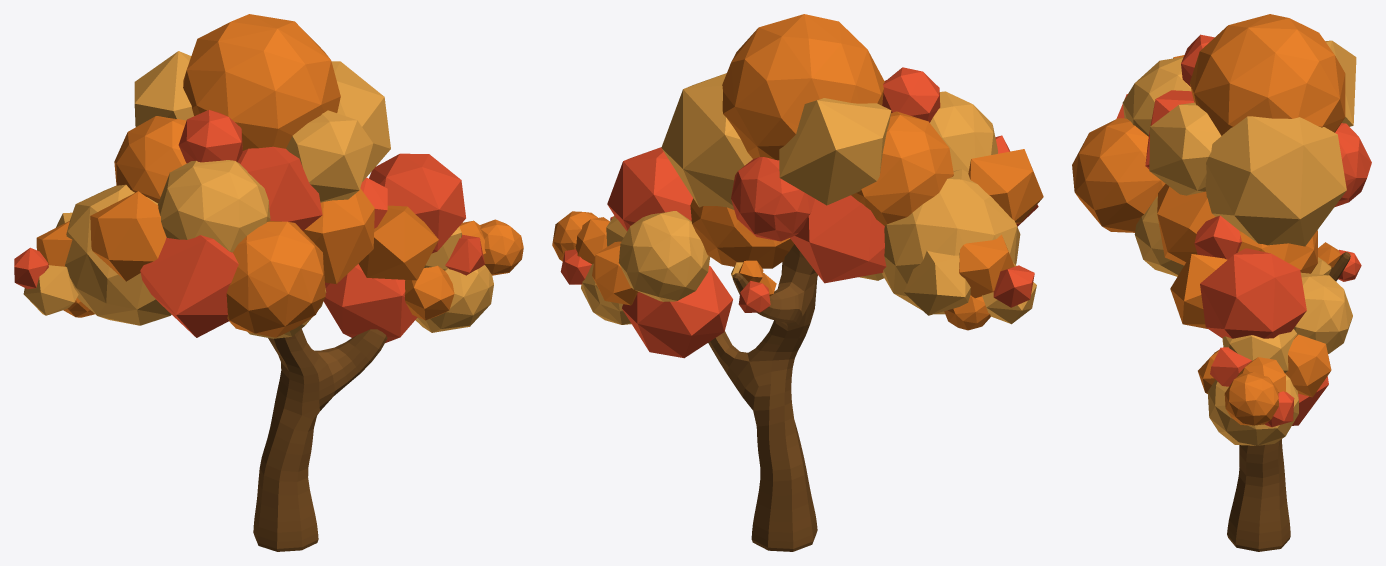
The model's file is Tree1.fbx.
3 renders of one model, left to right at view 1: azimuth 30°, elevation 25°; view 2: azimuth 150°, elevation 25°; view 3: azimuth 270°, elevation 25°, orthographic. The views are drawn at different scales.
Visible parts, largest first — view 1: Sphere.003, Plane, Sphere.035, Sphere.008, Sphere.036, Sphere.004, Sphere.037, Sphere.028, Sphere.006, Sphere.001, Sphere.009, Sphere.027 (+14 smaller); view 2: Plane, Sphere.003, Sphere.010, Sphere.004, Sphere.005, Sphere.009, Sphere.038, Sphere.032, Sphere.001, Sphere.018, Sphere.028, Sphere.030 (+14 smaller); view 3: Sphere.005, Sphere.003, Sphere.028, Sphere.035, Plane, Sphere.037, Sphere.038, Sphere.027, Sphere.008, Sphere, Sphere.022, Sphere.039 (+16 smaller).
Boxes of the visible parts, bbox=[...] form: Sphere.003: bbox=[183, 14, 340, 150]; Plane: bbox=[253, 329, 387, 551]; Sphere.035: bbox=[226, 221, 325, 337]; Sphere.008: bbox=[158, 160, 270, 252]; Sphere.036: bbox=[140, 235, 238, 337]; Sphere.004: bbox=[65, 184, 171, 325]; Sphere.037: bbox=[286, 110, 373, 202]; Sphere.028: bbox=[369, 153, 465, 253]; Sphere.006: bbox=[90, 191, 166, 281]; Sphere.001: bbox=[323, 264, 417, 342]; Sphere.009: bbox=[114, 116, 186, 203]; Sphere.027: bbox=[303, 188, 374, 284]; Plane: bbox=[708, 244, 817, 551]; Sphere.003: bbox=[722, 14, 884, 160]; Sphere.010: bbox=[779, 98, 891, 205]; Sphere.004: bbox=[882, 169, 1020, 314]; Sphere.005: bbox=[661, 73, 752, 209]; Sphere.009: bbox=[851, 111, 953, 225]; Sphere.038: bbox=[618, 211, 710, 301]; Sphere.032: bbox=[790, 195, 886, 283]; Sphere.001: bbox=[622, 265, 732, 358]; Sphere.018: bbox=[731, 157, 814, 241]; Sphere.028: bbox=[607, 147, 692, 231]; Sphere.030: bbox=[690, 198, 793, 268]; Sphere.005: bbox=[1205, 116, 1346, 246]; Sphere.003: bbox=[1189, 14, 1345, 135]; Sphere.028: bbox=[1200, 248, 1306, 338]; Sphere.035: bbox=[1072, 118, 1165, 232]; Plane: bbox=[1227, 252, 1350, 551]; Sphere.037: bbox=[1149, 102, 1221, 195]; Sphere.038: bbox=[1293, 272, 1352, 353]; Sphere.027: bbox=[1157, 184, 1215, 265]; Sphere.008: bbox=[1122, 57, 1191, 136]; Sphere: bbox=[1207, 374, 1298, 445]; Sphere.022: bbox=[1224, 371, 1278, 425]; Sphere.039: bbox=[1170, 254, 1227, 328].
Bounding box in the file's own units: 5.13 × 5.22 × 2.81.
